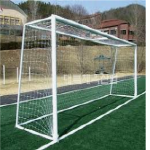goals: (12, 13, 140, 142)
